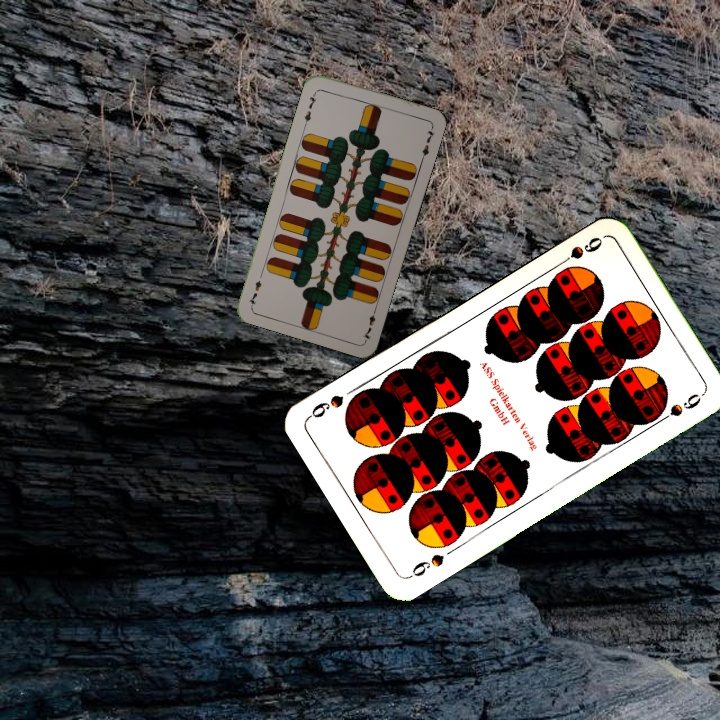E7: (359, 303, 380, 343), (300, 87, 320, 127)
S9: (553, 232, 606, 270), (404, 549, 447, 581)
